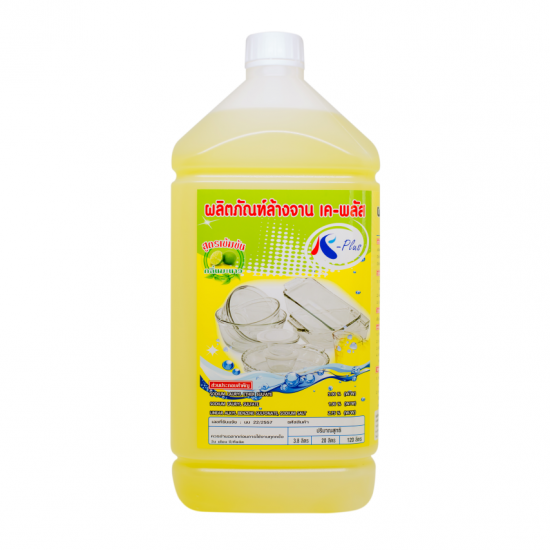Cleaning_solution: (167, 25, 383, 522)
